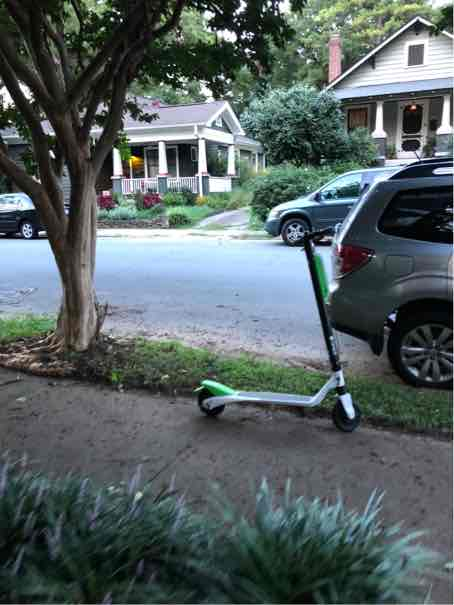scooter: (178, 182, 368, 445)
